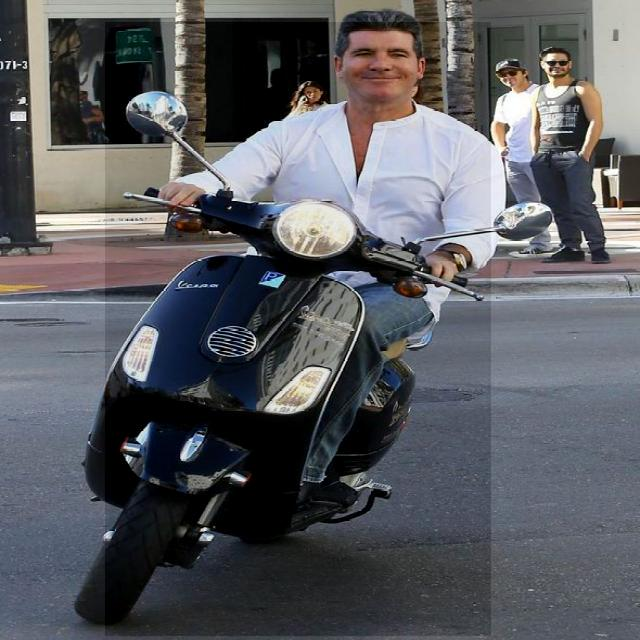Bike: (105, 23, 491, 636)
